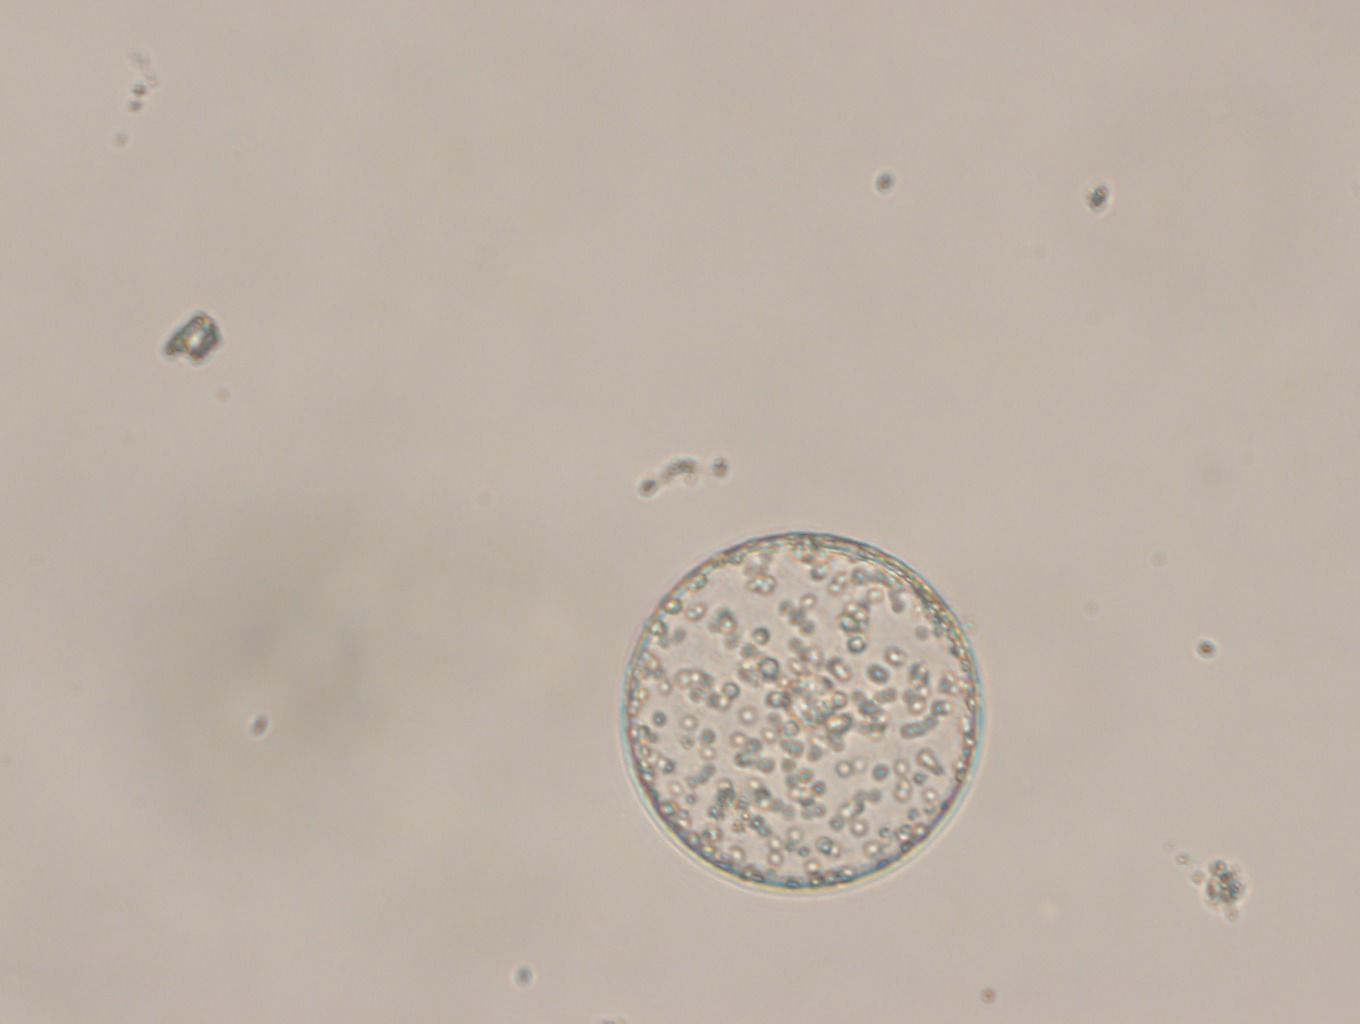coscinodiscus: (618, 526, 985, 900)
